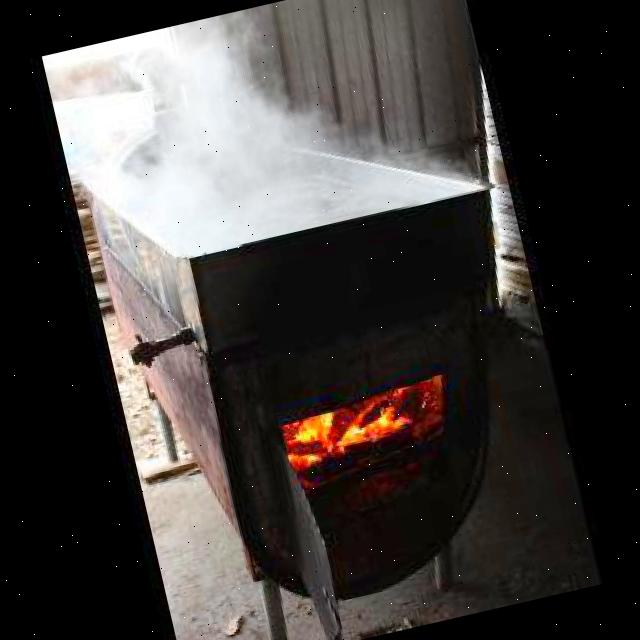fire: (42, 0, 491, 282), (277, 393, 413, 461)
